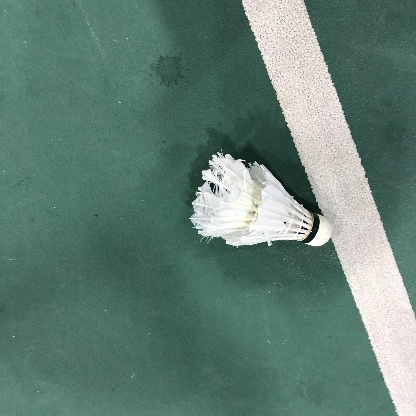ball_single: (190, 152, 332, 246)
